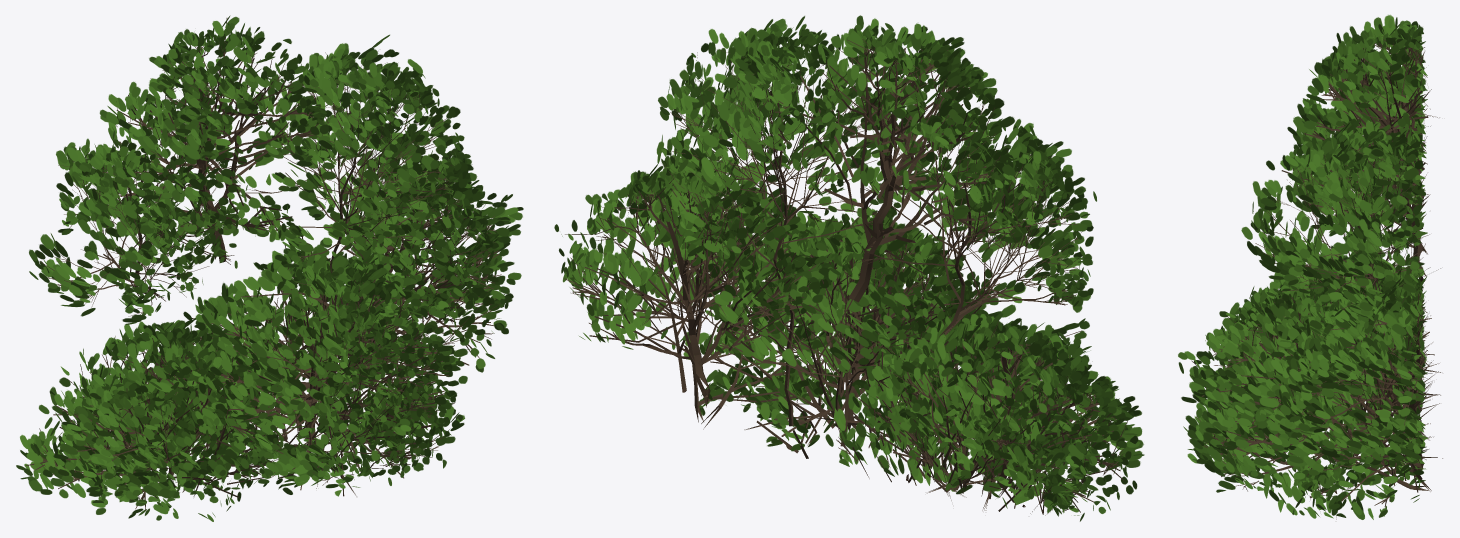
The picture shows the model from 3 angles, left to right: view 1: azimuth 30°, elevation 25°; view 2: azimuth 150°, elevation 25°; view 3: azimuth 270°, elevation 25°; orthographic projection. The views are drawn at different scales.
Parts seen in each view (by area): view 1: oak 01.001_trunk_Mat.001_0.240; view 2: oak 01.001_trunk_Mat.001_0.240; view 3: oak 01.001_trunk_Mat.001_0.240.
Boxes of the visible parts, x1,y1,x2,y2 form: oak 01.001_trunk_Mat.001_0.240: (16,15,523,521); oak 01.001_trunk_Mat.001_0.240: (554,15,1144,521); oak 01.001_trunk_Mat.001_0.240: (1178,14,1442,519).
Bounding box in the file's own units: 4.94 × 3.93 × 2.27.
Materials: 2 (1 with a texture image).
